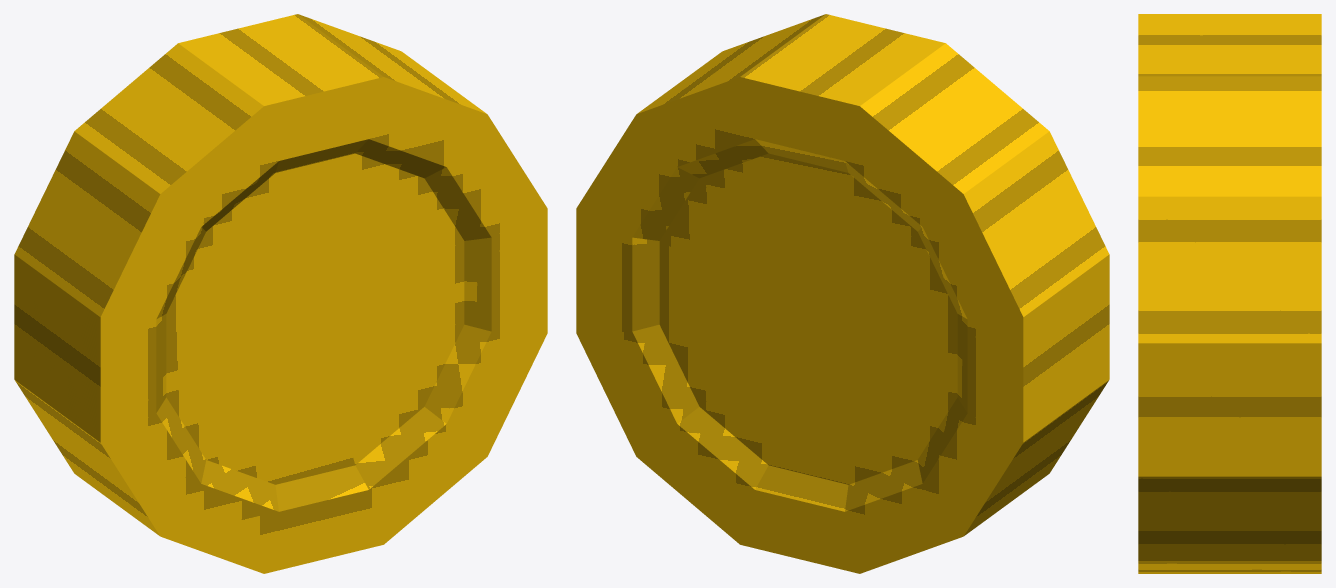
Rendered from coin.gltf.
3 views of the same model, side by side, from view 1: azimuth 30°, elevation 25°; view 2: azimuth 150°, elevation 25°; view 3: azimuth 270°, elevation 25° (orthographic). The views are drawn at different scales.
Visible parts, largest first — view 1: coin; view 2: coin; view 3: coin.
Part boxes in pixels (x1,y1,x2,y2): coin: (14, 14, 547, 573); coin: (576, 14, 1109, 573); coin: (1138, 14, 1321, 573).
Bounding box in the file's own units: 0.1875 × 0.1875 × 0.0625.
Materials: 1 (1 with a texture image).
